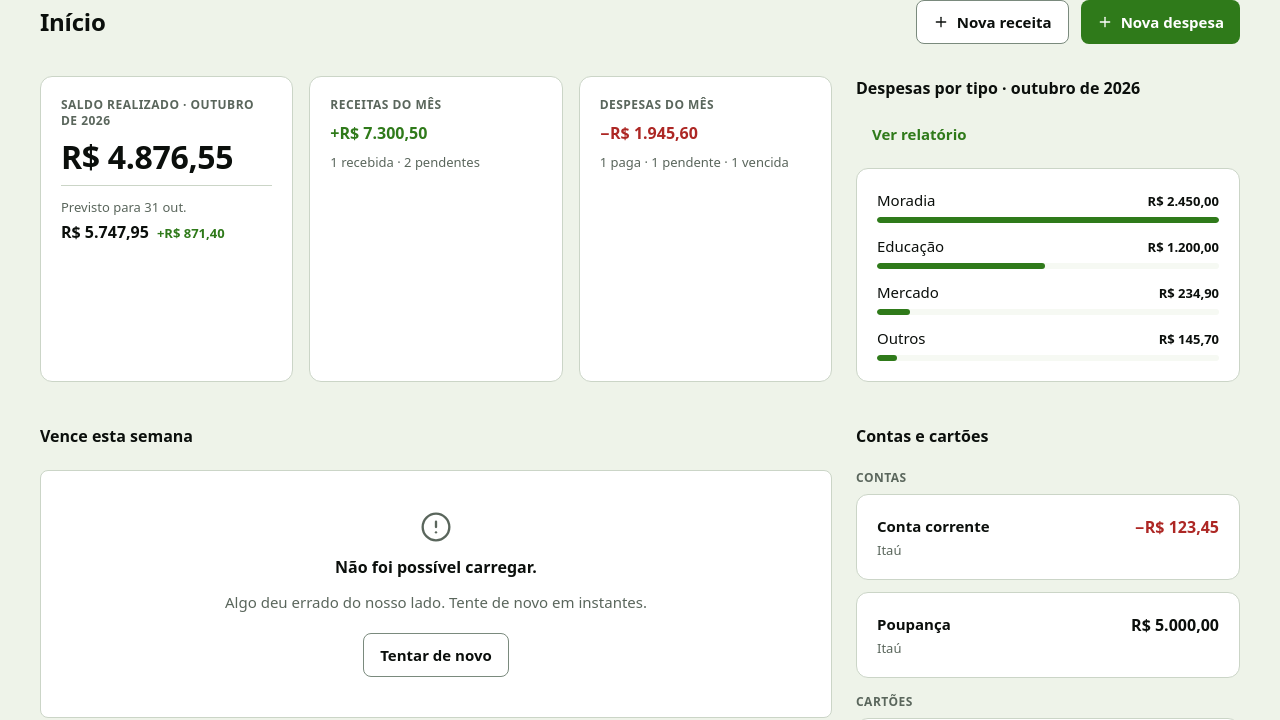
Scenario: Dashboard (spec 0015) › a failing statements query only breaks its section and the card badges (AC-0015-05, INV-0015-04)
Check: the message shows "Algo deu errado do nosso lado.", box left=225, top=592, right=647, bottom=612
Check: the text "R$ 4.876,55" is shown, box left=61, top=135, right=233, bottom=178
Click the button "Tentar de novo". click: click(436, 655)
box: left=363, top=633, right=509, bottom=677
(page scrolled)
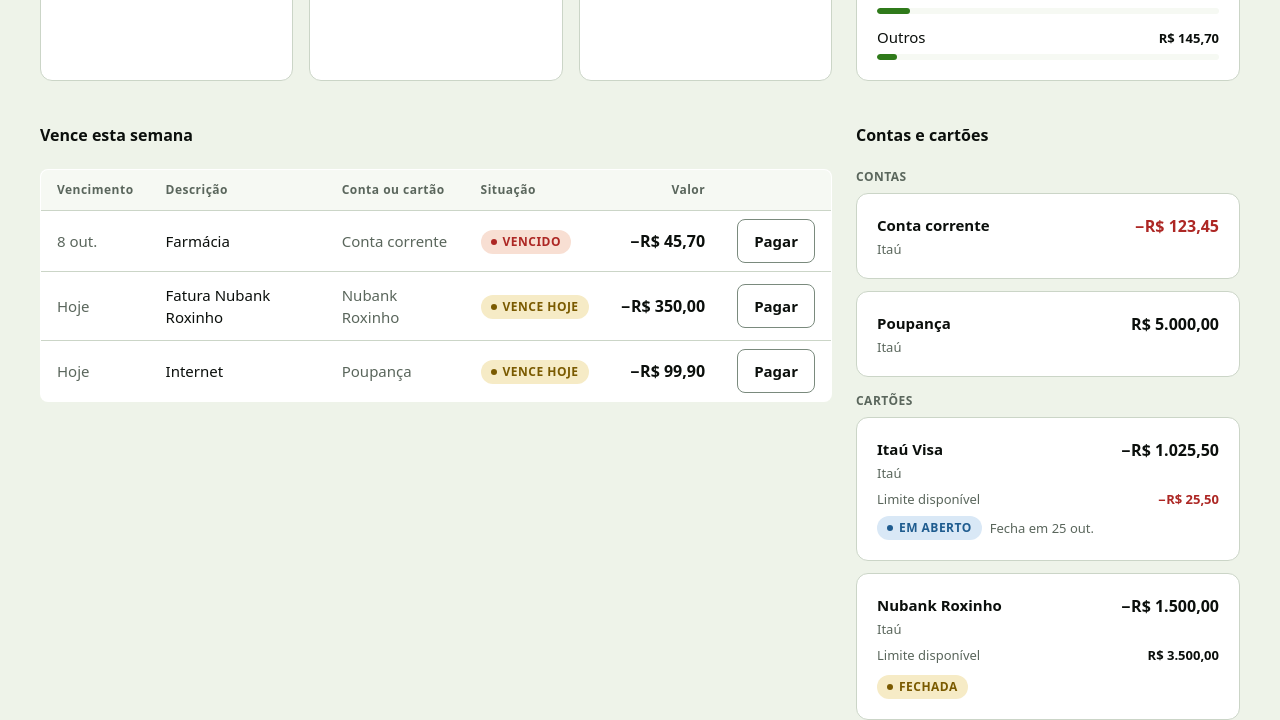
Check: the table named "Vence esta semana" is shown, box left=40, top=169, right=832, bottom=402
Check: the text "Fechada" is shown, box left=877, top=675, right=968, bottom=699
